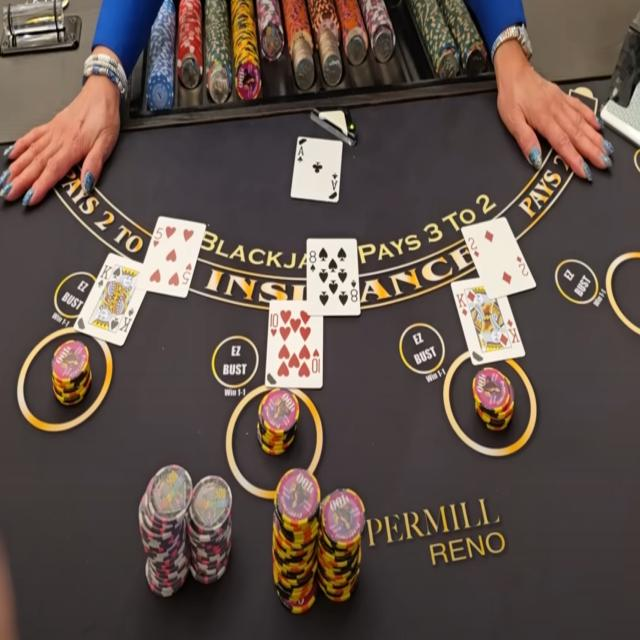10: (267, 308, 280, 329)
2: (466, 235, 481, 251)
5: (154, 224, 164, 241)
8: (307, 248, 319, 265)
A: (297, 144, 305, 157)
K: (100, 260, 112, 281), (455, 292, 468, 308)
